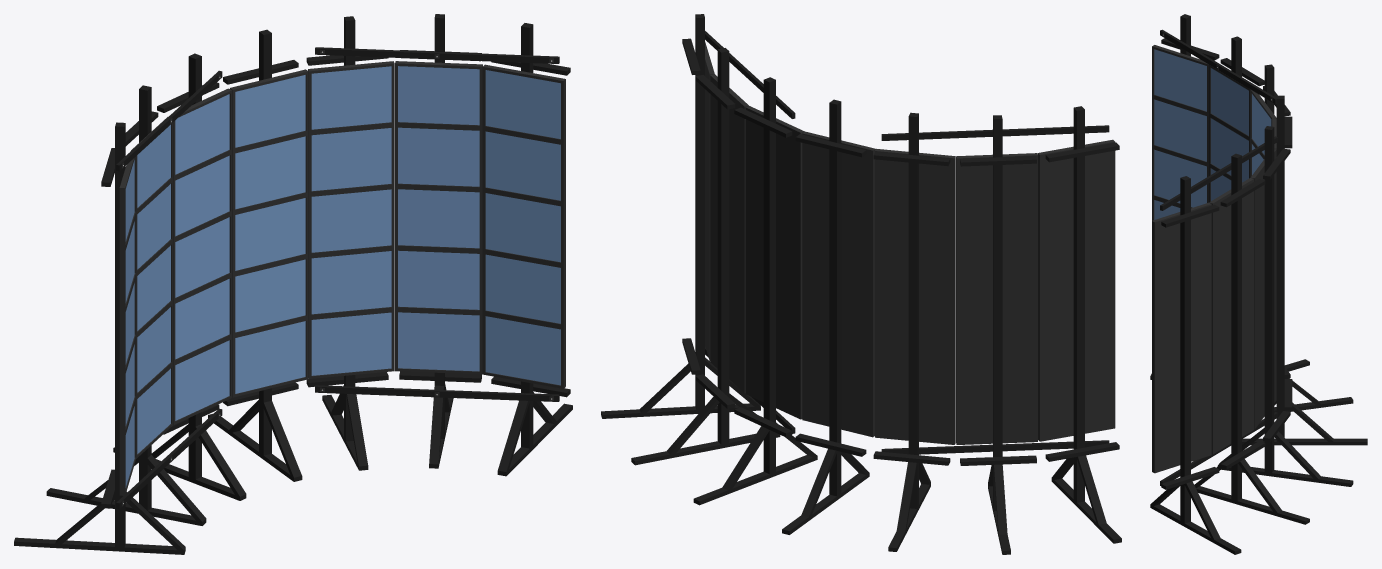
Rendered from Varrier.fbx.
3 views of the same model, side by side, from view 1: azimuth 30°, elevation 25°; view 2: azimuth 150°, elevation 25°; view 3: azimuth 270°, elevation 25° (orthographic). The views are drawn at different scales.
Visible parts, largest first — view 1: Cube.041, Cube.028, Cube.039, Cube.037, Cube.040, Cube.038, Cube.042, Cube.032, Cube.030, Cube.031, Cube.029, Cube.045 (+34 smaller); view 2: LambdaVisionSupport.004, LambdaVisionSupport, LambdaVisionSupport.005, LambdaVisionSupport.003, LambdaVisionSupport.006, LambdaVisionSupport.001, LambdaVisionSupport.002, Cube.018, Cube.017, Cube.019, Cube.016, Cube.011 (+34 smaller); view 3: LambdaVisionSupport.005, LambdaVisionSupport.006, LambdaVisionSupport.004, LambdaVisionSupport, Cube.021, Cube.022, Cube.046, Cube.044, Cube.045, Cube.043, Cube.042, Cube.023 (+30 smaller).
Part boxes in pixels (bbox=[...]): Cube.041: bbox=[395, 61, 482, 128]; Cube.028: bbox=[308, 61, 394, 132]; Cube.039: bbox=[395, 186, 482, 251]; Cube.037: bbox=[395, 309, 482, 374]; Cube.040: bbox=[395, 125, 482, 189]; Cube.038: bbox=[395, 248, 482, 312]; Cube.042: bbox=[482, 64, 565, 142]; Cube.032: bbox=[308, 309, 394, 378]; Cube.030: bbox=[308, 186, 394, 255]; Cube.031: bbox=[308, 248, 394, 317]; Cube.029: bbox=[308, 125, 394, 194]; Cube.045: bbox=[482, 251, 565, 327]; LambdaVisionSupport.004: bbox=[693, 77, 817, 505]; LambdaVisionSupport: bbox=[782, 99, 869, 534]; LambdaVisionSupport.005: bbox=[631, 48, 780, 465]; LambdaVisionSupport.003: bbox=[1051, 106, 1121, 543]; LambdaVisionSupport.006: bbox=[601, 14, 760, 418]; LambdaVisionSupport.001: bbox=[888, 112, 930, 551]; LambdaVisionSupport.002: bbox=[988, 115, 1010, 554]; Cube.018: bbox=[956, 270, 1037, 330]; Cube.017: bbox=[956, 327, 1037, 387]; Cube.019: bbox=[956, 212, 1037, 272]; Cube.016: bbox=[956, 384, 1037, 444]; Cube.011: bbox=[875, 380, 955, 444]; LambdaVisionSupport.005: bbox=[1194, 153, 1309, 524]; LambdaVisionSupport.006: bbox=[1150, 176, 1241, 554]; LambdaVisionSupport.004: bbox=[1217, 126, 1353, 486]; LambdaVisionSupport: bbox=[1242, 95, 1367, 445]; Cube.021: bbox=[1152, 45, 1208, 114]; Cube.022: bbox=[1152, 96, 1208, 164]; Cube.046: bbox=[1152, 405, 1211, 473]; Cube.044: bbox=[1152, 304, 1211, 372]; Cube.045: bbox=[1152, 355, 1211, 422]; Cube.043: bbox=[1152, 254, 1211, 322]; Cube.042: bbox=[1152, 202, 1211, 272]; Cube.023: bbox=[1152, 147, 1208, 208].
Bounding box in the file's own units: 3.42 × 2.49 × 1.41.
